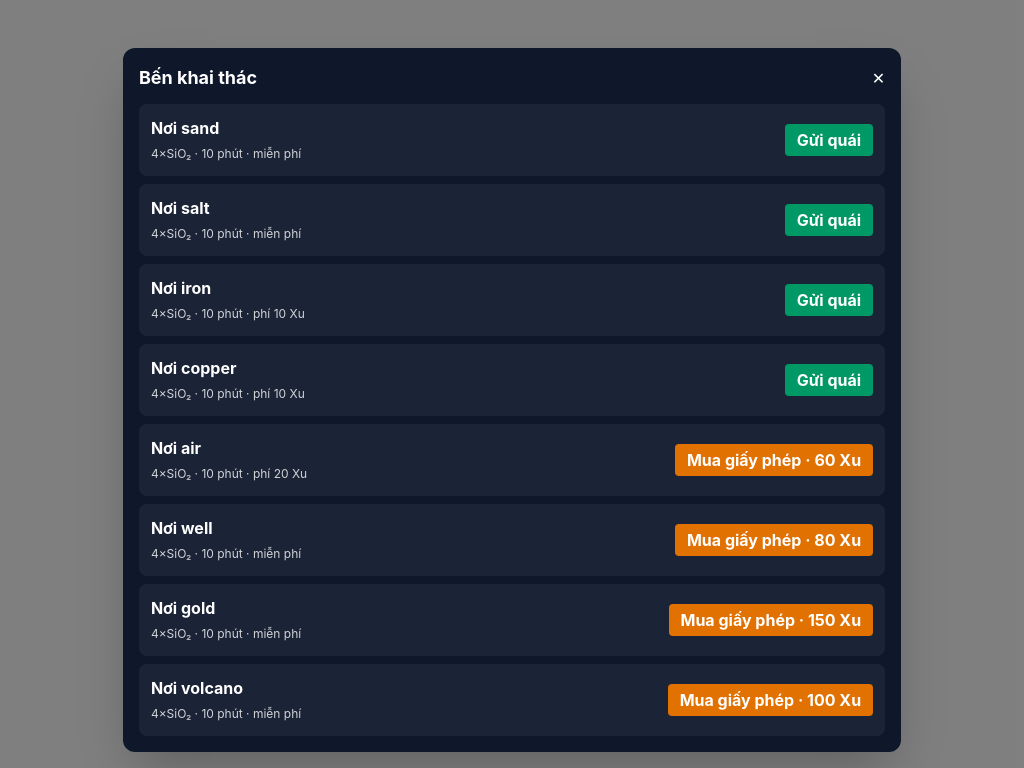
Test: picking shows the yield with +50% on a habitat match, and sending posts and closes the picker
The image size is (1024, 768).
Click the button "Gửi quái" in the row of "Nơi sand" at (829, 140), box [785,124,873,156]
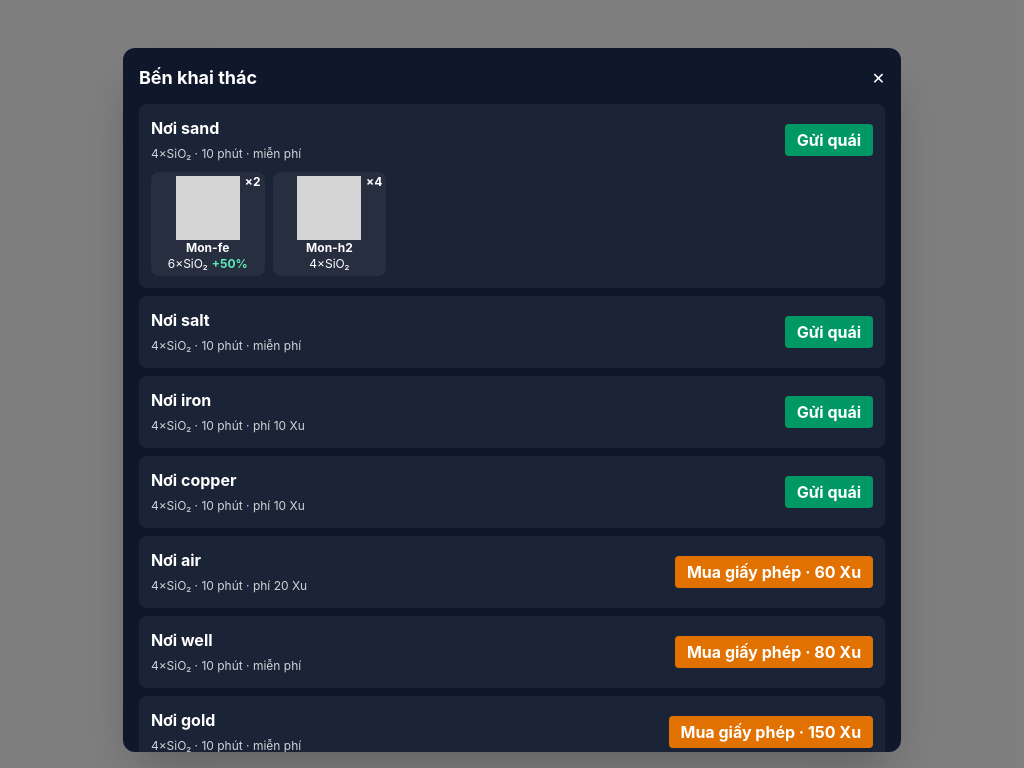
Expected: the button with test id "pick-h2" does not show "+50%", [273,172,386,276]
Expected: the button with test id "pick-fe" shows "+50%"
Expected: the button with test id "pick-fe" shows "6"
Click the button with test id "pick-fe" at (208, 224), box [151,172,265,276]
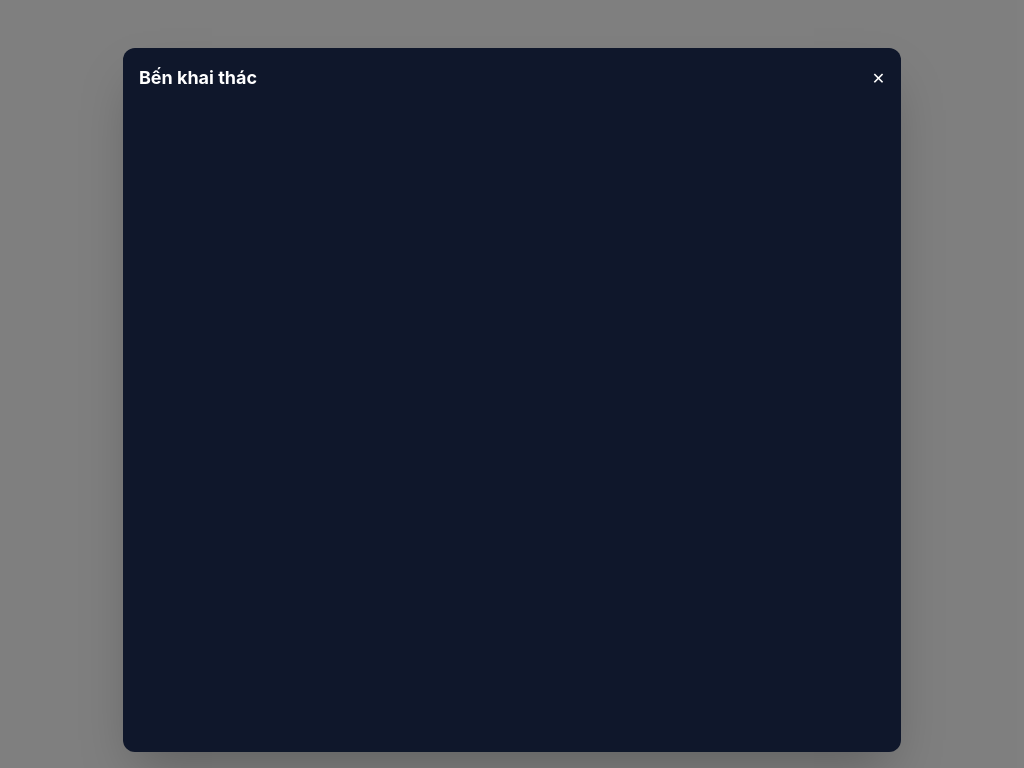
Expected: the button with test id "pick-fe" is gone
